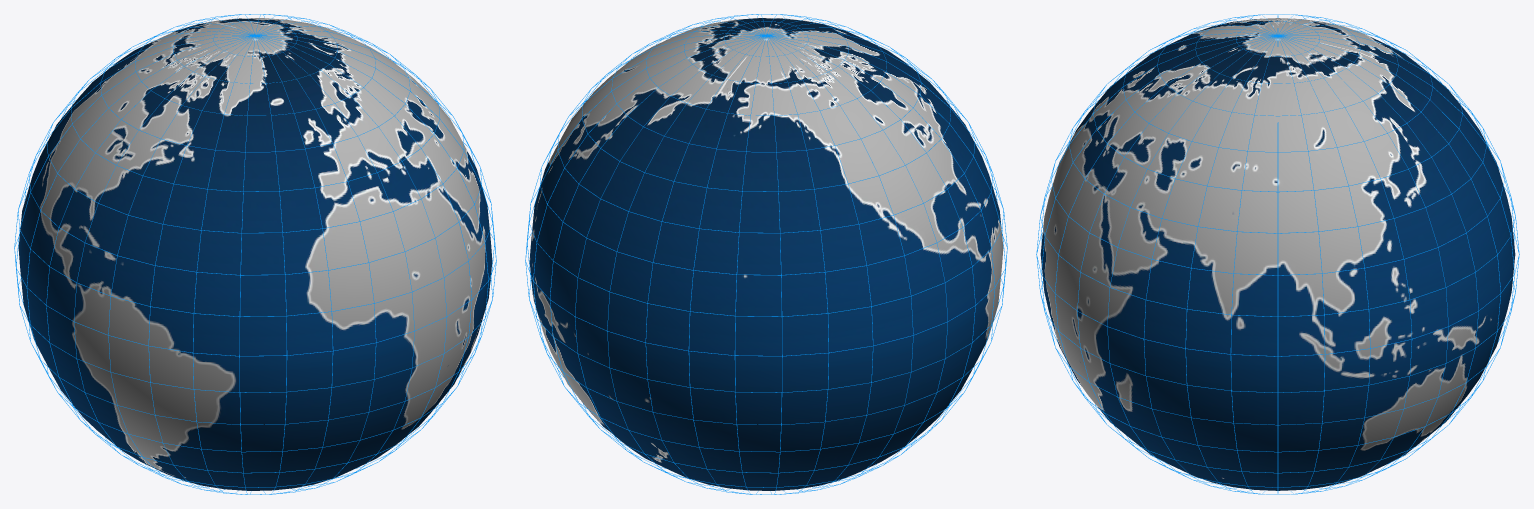
The model's file is NewCustomSphere.gltf.
3 renders of one model, left to right at view 1: azimuth 30°, elevation 25°; view 2: azimuth 150°, elevation 25°; view 3: azimuth 270°, elevation 25°, orthographic.
Visible parts, largest first — view 1: Sphere, Sphere_001; view 2: Sphere, Sphere_001; view 3: Sphere, Sphere_001.
Boxes of the visible parts, x1,y1,x2,y2 form: Sphere: (18,18,492,490); Sphere_001: (14,14,496,494); Sphere: (529,18,1003,490); Sphere_001: (525,14,1007,494); Sphere: (1040,18,1515,490); Sphere_001: (1036,14,1519,494).
Bounding box in the file's own units: 3.28 × 3.28 × 3.28.
